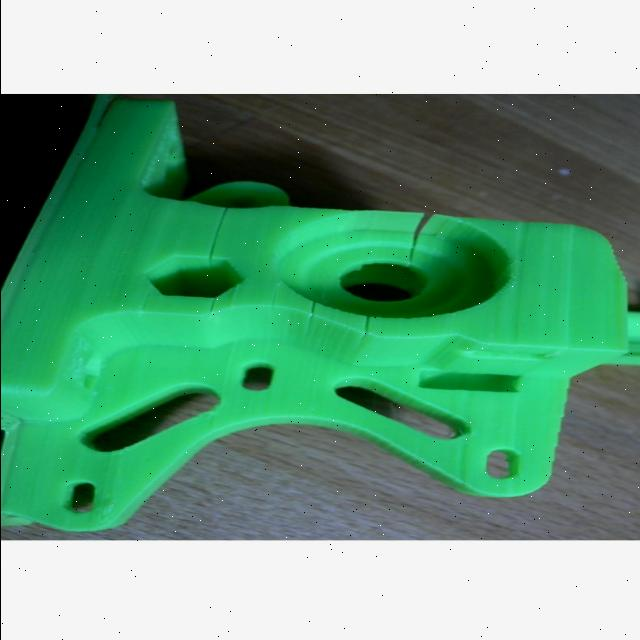cracking: (388, 198, 460, 265), (178, 200, 240, 276), (286, 304, 385, 348)
